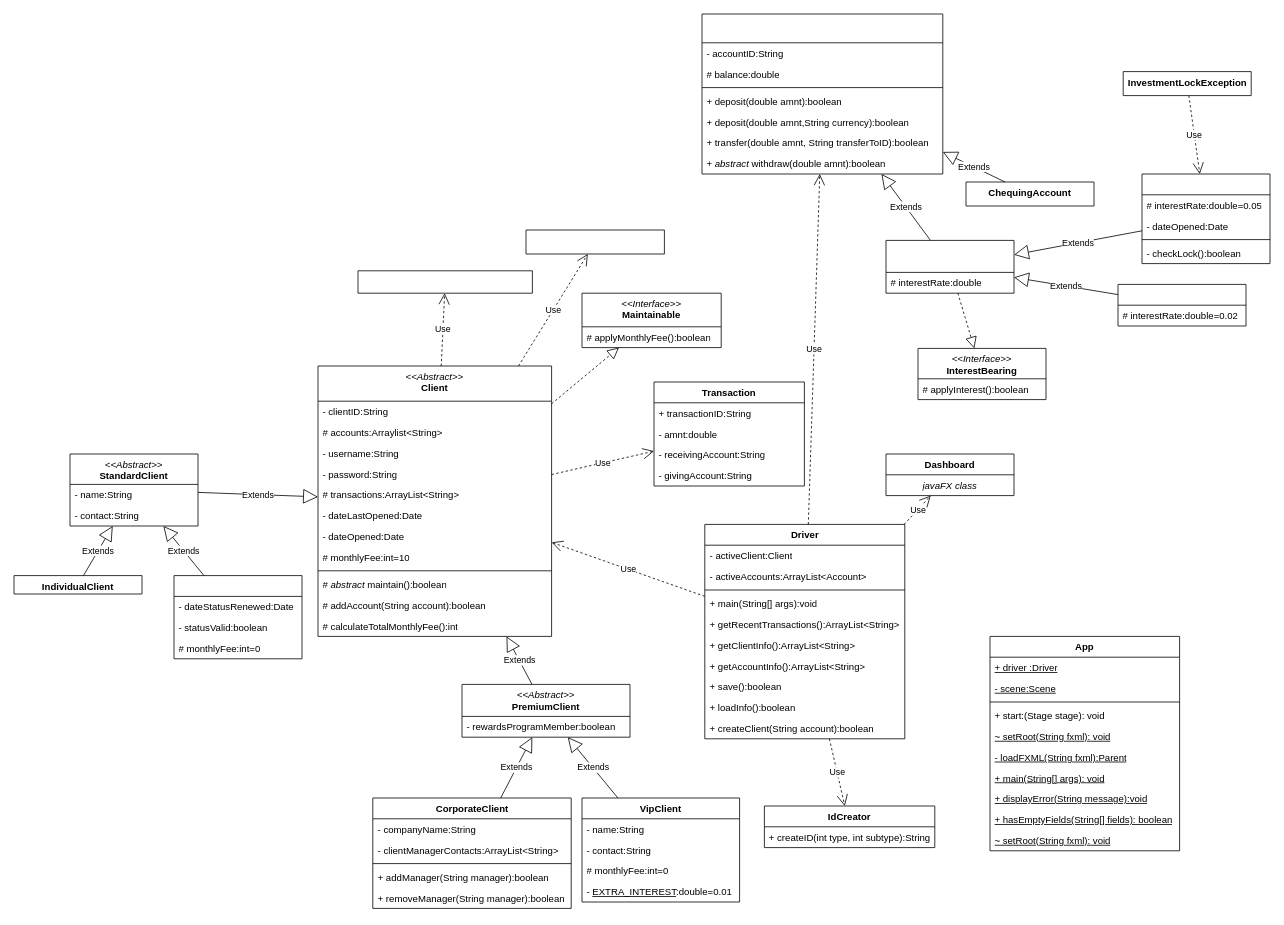
This 1284x925 diagram has some shape labels left out. Here are the shapes that lost their labels. From the top down, the box of each, then its label:
(701, 13, 943, 174): <<Abstract>> Account
(1141, 173, 1270, 264): InvestmentAccount
(525, 229, 664, 254): InsufficientFundsException
(357, 270, 532, 293): MissingChequingAccountException
(885, 240, 1014, 293): <<Abstract>> EarningsAccount
(1117, 284, 1246, 326): SavingsAccount
(173, 575, 302, 659): StudentClient
